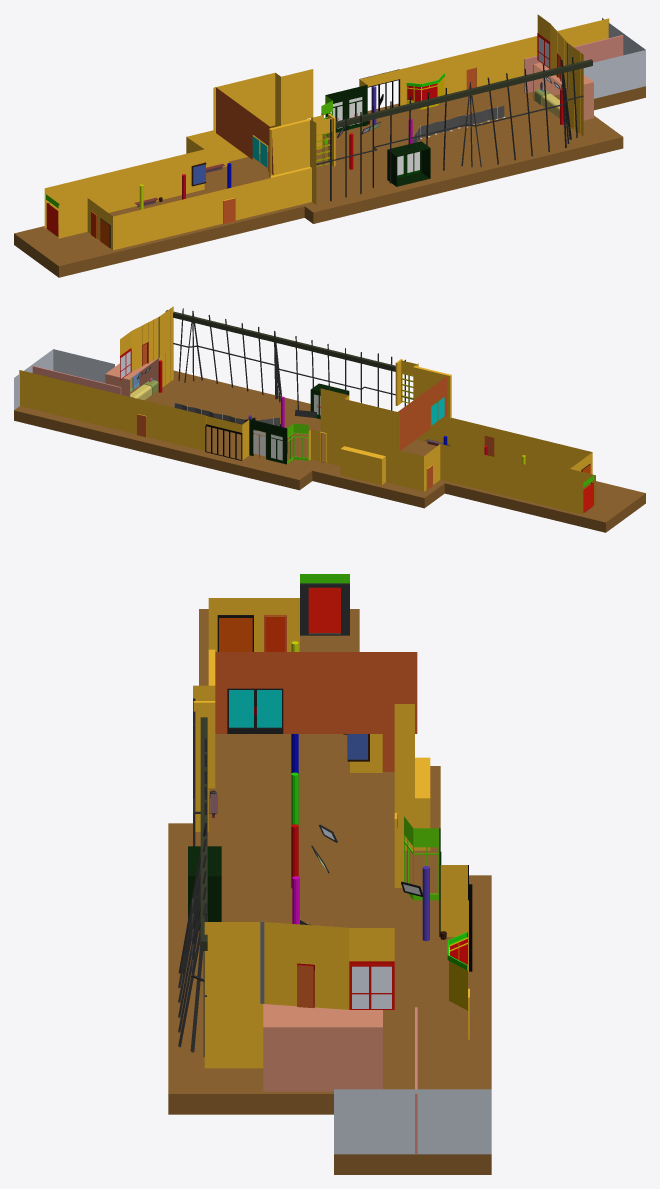
Rendered from forum_main.fbx.
3 renders of one model, top to bottom at view 1: azimuth 30°, elevation 25°; view 2: azimuth 150°, elevation 25°; view 3: azimuth 270°, elevation 25°, orthographic. The views are drawn at different scales.
Visible parts, largest first — view 1: Floor_bottom, WallBack.001, WallFront.001, WindowFrontStructure, WallFront.002, WallC.001, WallB.004, WindowFrontStructureTop, EntranceFrontDoor.001, WallControlling.002, EntranceBackDoor.001, WallCafeteria.003 (+9 smaller); view 2: WallBack.001, Floor_bottom, WallFront.001, WindowFrontStructure, WallControlling.002, WallB.004, WallC.001, WindowFrontStructureTop, EntranceBackDoor.001, WallFront.002, WallCafeteria.003, WallCafeteria.002 (+9 smaller); view 3: Floor_bottom, WallB.004, WallControlling.002, WallC.001, WallCafeteria.002, WallBack.001, WallC.002, WindowFrontStructure, WallFront.001, DoorBUpper.003, DoorCUpper.001, Pillars (+9 smaller).
Boxes of the visible parts, bbox=[...] form: Floor_bottom: bbox=[14, 83, 645, 277]; WallBack.001: bbox=[44, 18, 609, 228]; WallFront.001: bbox=[58, 168, 316, 250]; WindowFrontStructure: bbox=[316, 57, 583, 201]; WallFront.002: bbox=[269, 114, 335, 177]; WallC.001: bbox=[583, 18, 645, 98]; WallB.004: bbox=[215, 87, 273, 174]; WindowFrontStructureTop: bbox=[335, 59, 592, 128]; EntranceFrontDoor.001: bbox=[387, 141, 430, 186]; WallControlling.002: bbox=[537, 14, 583, 100]; EntranceBackDoor.001: bbox=[325, 85, 367, 132]; WallCafeteria.003: bbox=[524, 35, 623, 93]; WallBack.001: bbox=[19, 370, 583, 514]; Floor_bottom: bbox=[14, 370, 645, 532]; WallFront.001: bbox=[416, 414, 595, 505]; WindowFrontStructure: bbox=[173, 308, 413, 410]; WallControlling.002: bbox=[120, 306, 173, 371]; WallB.004: bbox=[397, 375, 447, 452]; WallC.001: bbox=[14, 349, 114, 409]; WindowFrontStructureTop: bbox=[165, 310, 395, 371]; EntranceBackDoor.001: bbox=[249, 419, 287, 464]; WallFront.002: bbox=[395, 359, 451, 418]; WallCafeteria.003: bbox=[32, 366, 121, 394]; WallCafeteria.002: bbox=[106, 358, 158, 385]; Floor_bottom: bbox=[168, 609, 491, 1174]; WallB.004: bbox=[215, 652, 417, 733]; WallControlling.002: bbox=[204, 922, 394, 1009]; WallC.001: bbox=[334, 1089, 491, 1154]; WallCafeteria.002: bbox=[263, 1004, 381, 1091]; WallBack.001: bbox=[350, 704, 469, 1039]; WallC.002: bbox=[204, 1004, 263, 1068]; WindowFrontStructure: bbox=[178, 698, 207, 1056]; WallFront.001: bbox=[195, 598, 299, 831]; DoorBUpper.003: bbox=[227, 688, 283, 733]; DoorCUpper.001: bbox=[349, 961, 394, 1009]; Pillars: bbox=[291, 641, 429, 940].
Size of the model in its own units: 56.89 by 8.14 by 14.25.
